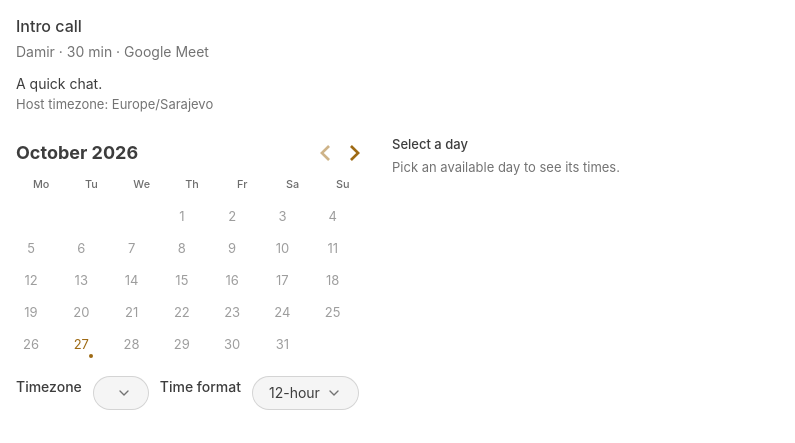
Test: PublicBookingPage — the booking form (#326) › confirms the booking and shows the booked time once submitted
Check: the heading "Intro call" is shown, box [16,16,82,36]
Click the button "27" at (81, 345), box [66,330,96,360]
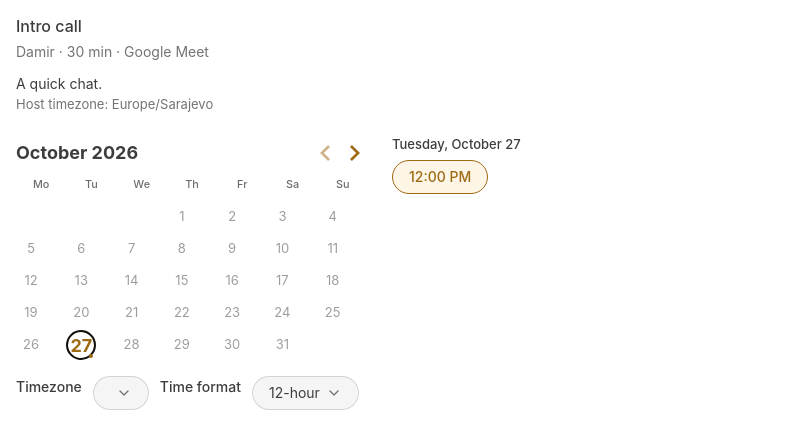
Click the button "12:00 PM" at (440, 177), box [392,160,488,194]
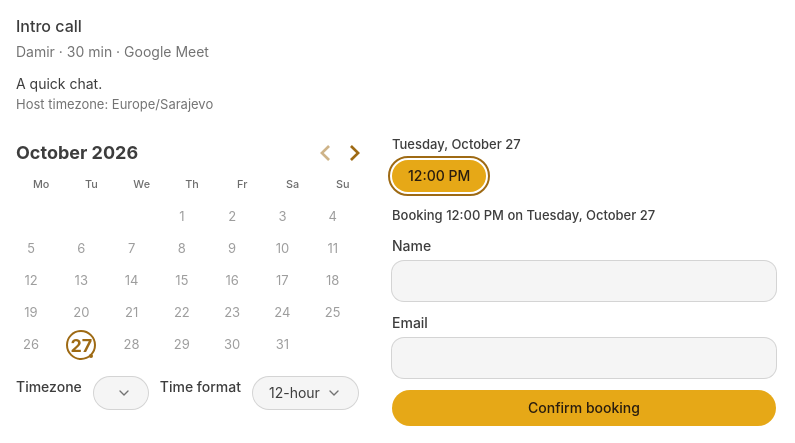
Type "Bob Visitor" into the field labelled "Name" at (584, 281), box [392,261,776,301]
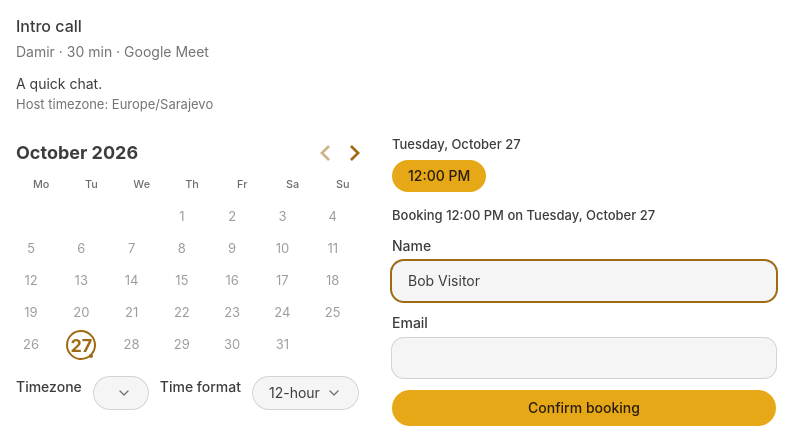
Type "bob@example.com" into the field labelled "Email" at (584, 358), box [392,338,776,378]
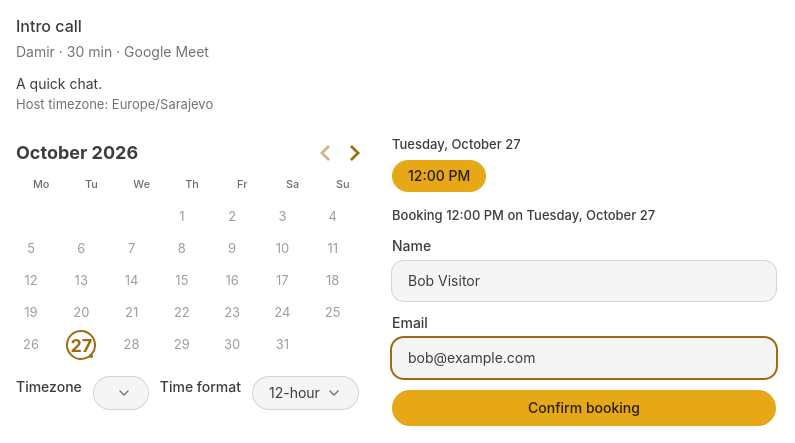
Click the button "Confirm booking" at (584, 408), box [392,390,776,426]
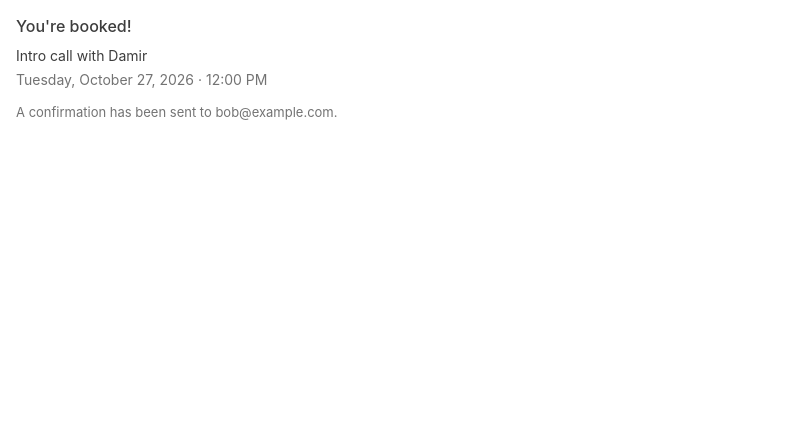
Check: the heading "You're booked!" is shown, box [16,16,132,36]
Check: the text "A confirmation has been sent to bob@example.com." is shown, box [16,104,338,120]
